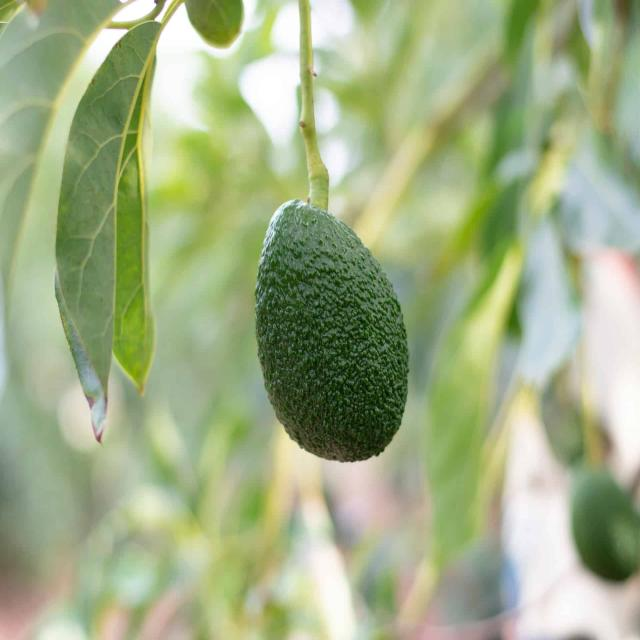aguacate: (226, 191, 426, 466)
